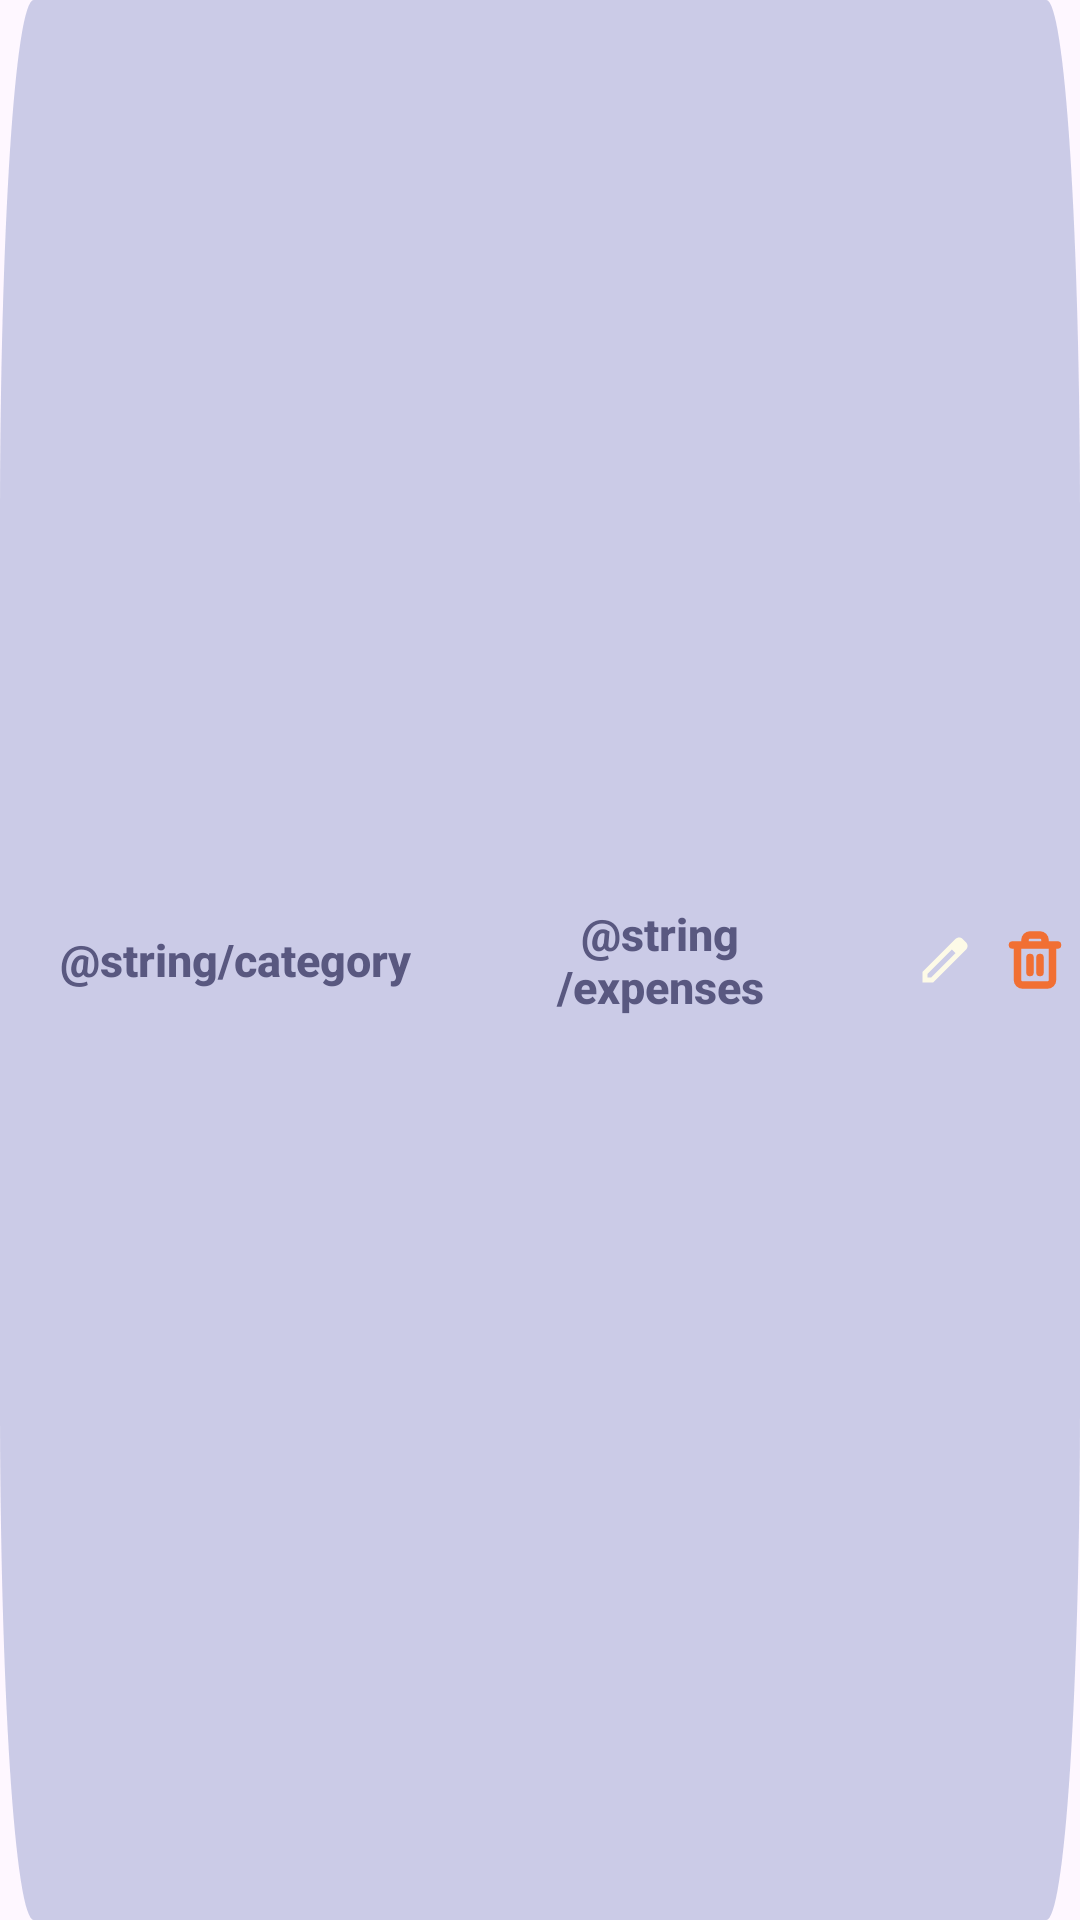

Icon bounding boxes for this 1080×1920 phone screenshot, format {"left": x1, "top": y1, "right": x2, "bottom": y2}:
delete: {"left": 1008, "top": 931, "right": 1062, "bottom": 989}
edit: {"left": 922, "top": 937, "right": 968, "bottom": 983}
